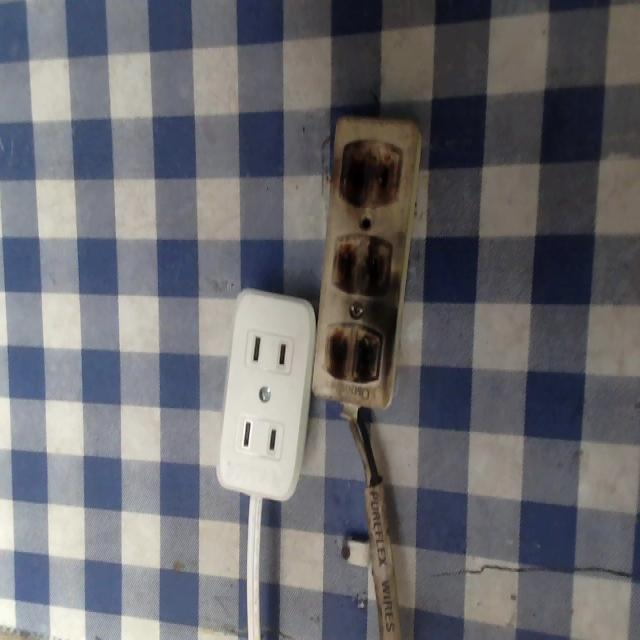-: (338, 135, 403, 201), (330, 232, 392, 300), (327, 322, 382, 382)
